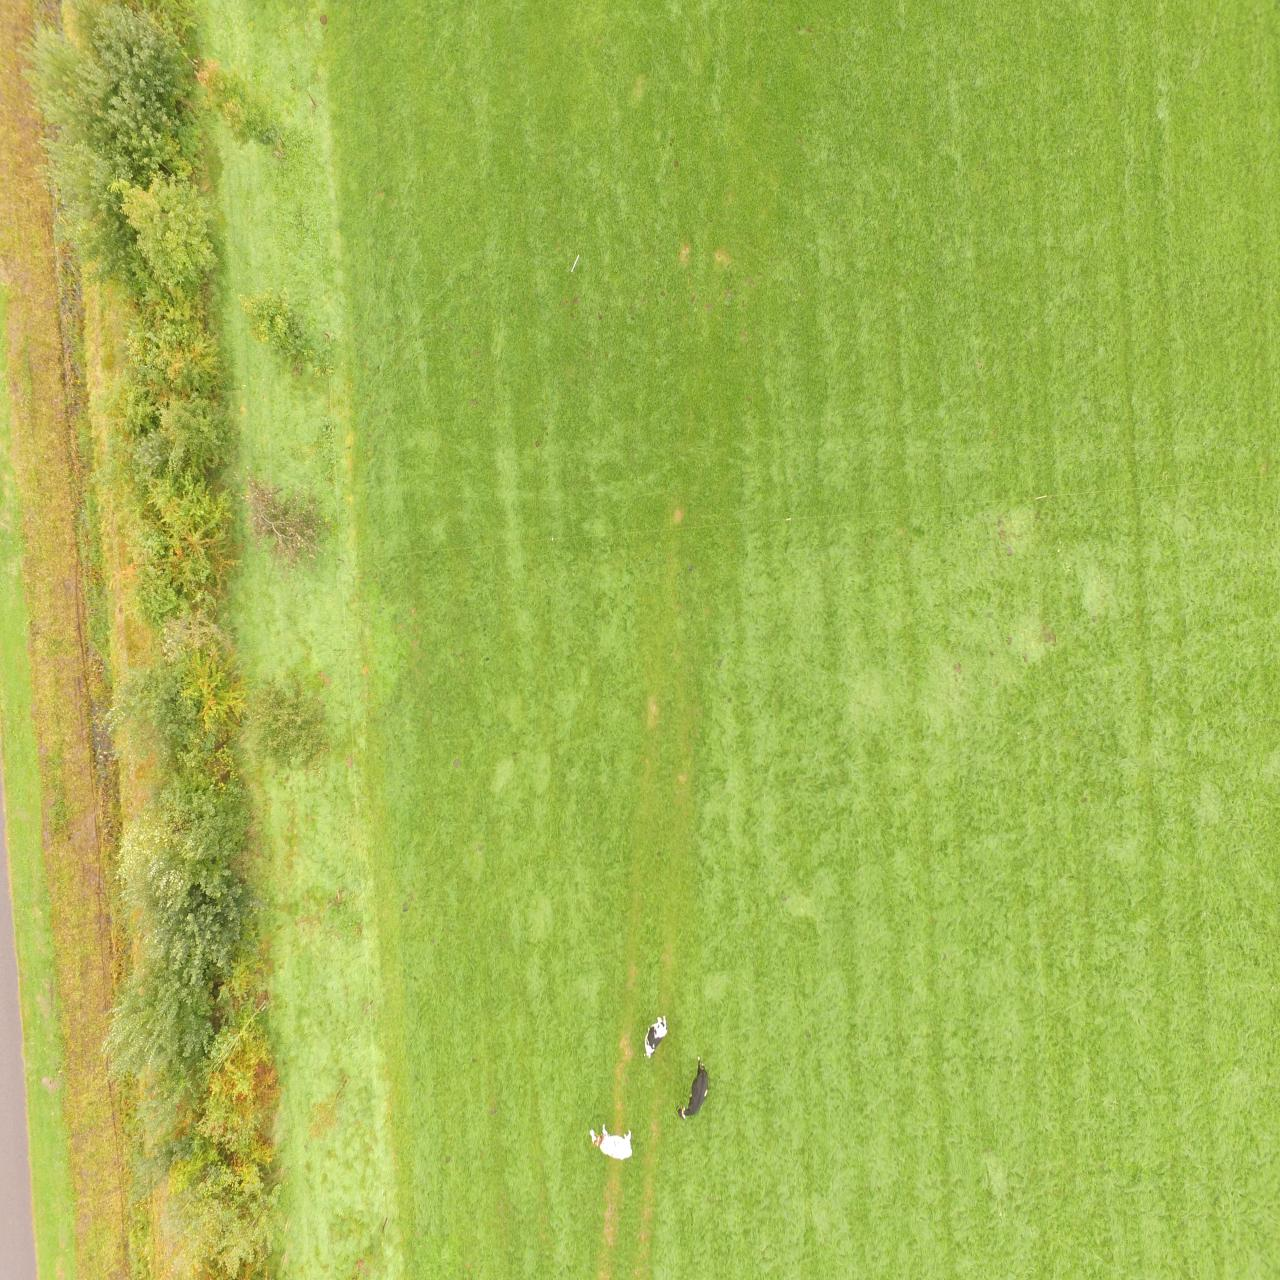cow: (675, 1054, 712, 1123), (586, 1119, 635, 1164), (640, 1009, 669, 1062)
